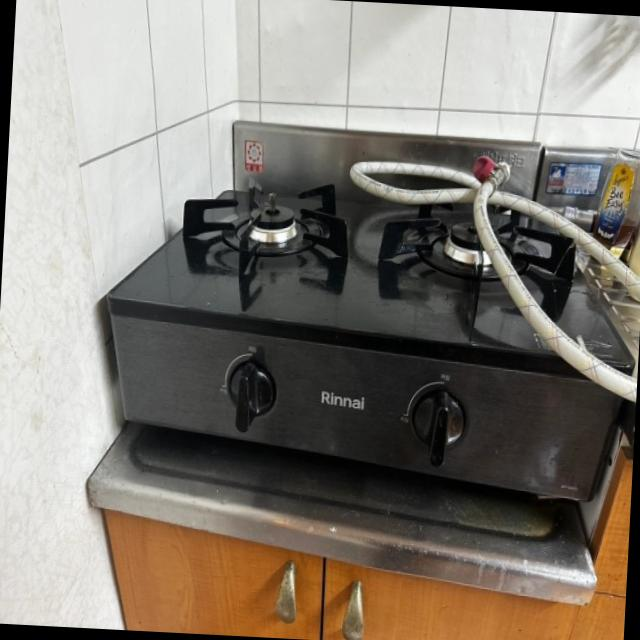knob_OFF: (167, 169, 362, 314)
